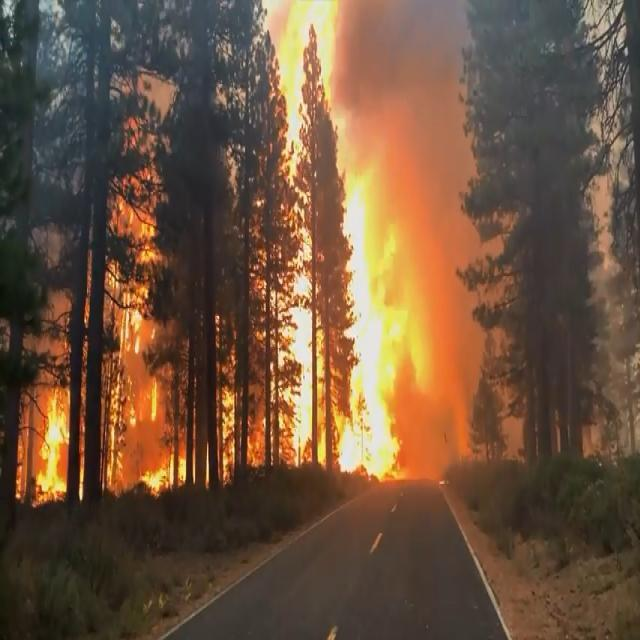Fire: (276, 0, 399, 473), (101, 188, 188, 498), (28, 368, 72, 505)
